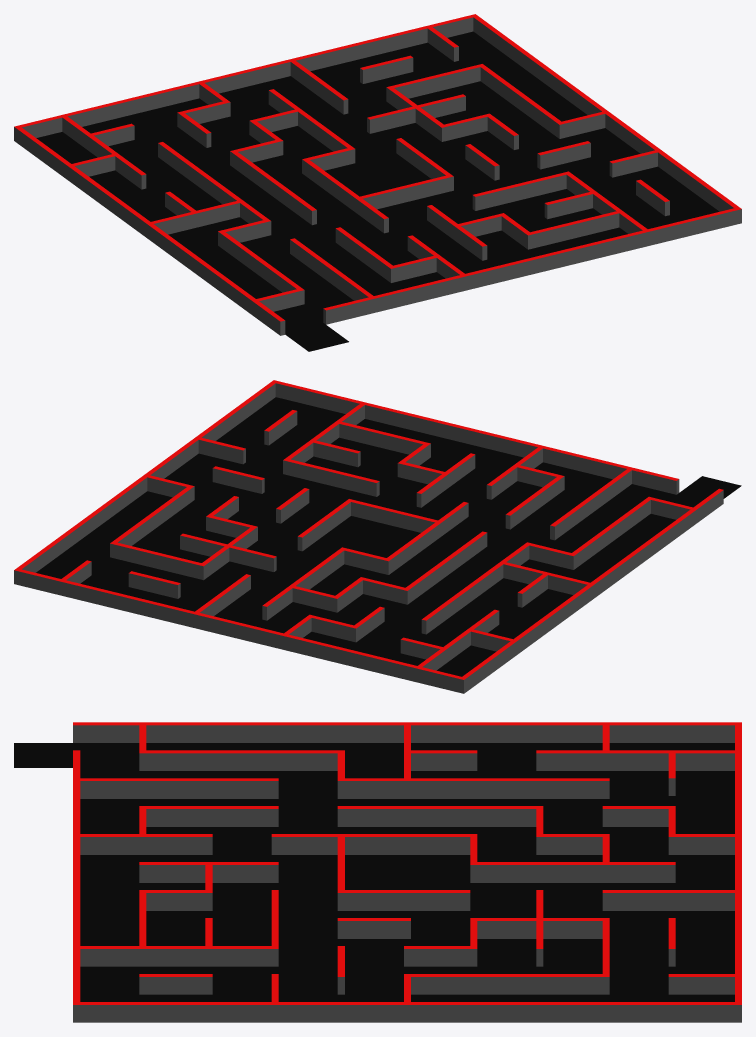
Rendered from minus.dae.
The picture shows the model from 3 angles, top to bottom: view 1: azimuth 30°, elevation 25°; view 2: azimuth 150°, elevation 25°; view 3: azimuth 270°, elevation 25°; orthographic projection. The views are drawn at different scales.
Visible parts, largest first — view 1: Minus2; view 2: Minus2; view 3: Minus2.
Boxes of the visible parts, x1,y1,x2,y2 form: Minus2: (14, 14, 741, 351); Minus2: (14, 380, 741, 693); Minus2: (14, 722, 741, 1022).
Size of the model in its own units: 1.7 by 1.85 by 0.05.
